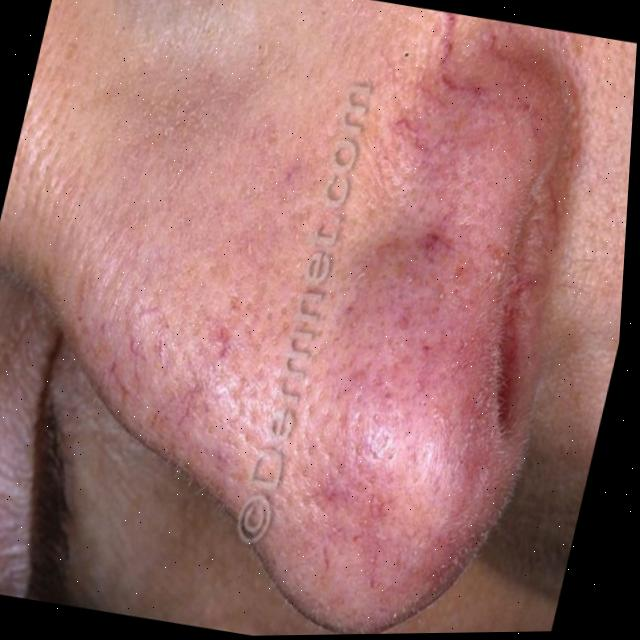Rosacea: (164, 0, 583, 549)
